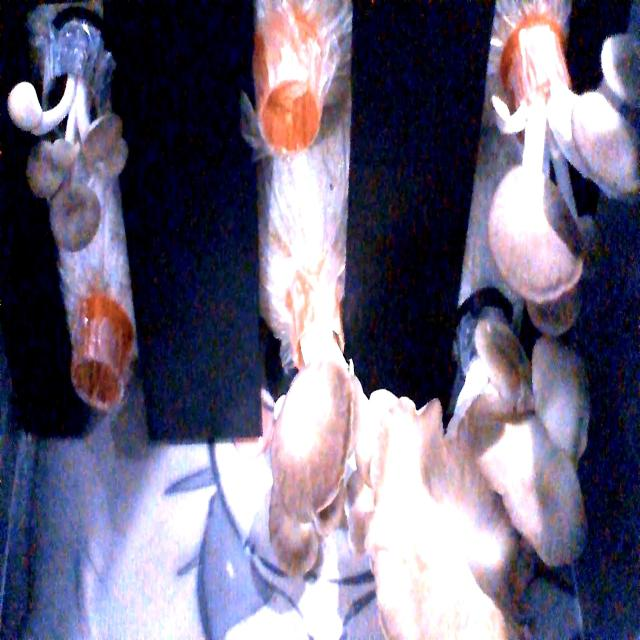big: (348, 309, 597, 640), (465, 17, 640, 330), (265, 348, 392, 584)
nfound: (254, 76, 336, 164), (70, 335, 136, 433)
small: (2, 68, 136, 261)
